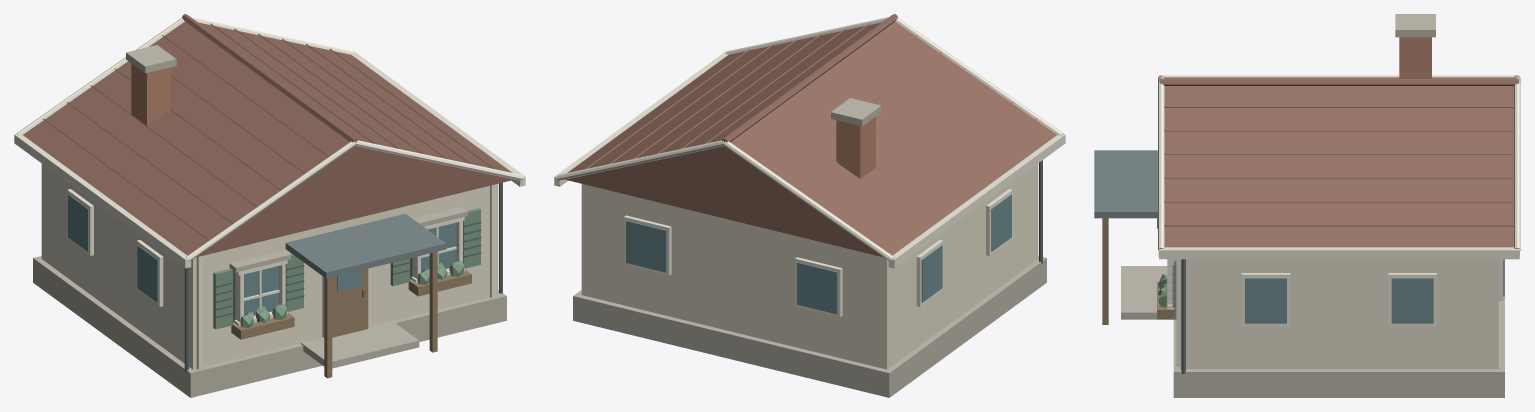
3 views of the same model, side by side, from view 1: azimuth 30°, elevation 25°; view 2: azimuth 150°, elevation 25°; view 3: azimuth 270°, elevation 25° (orthographic). The views are drawn at different scales.
Bounding box in the file's own units: 9.36 × 6.29 × 9.64.
